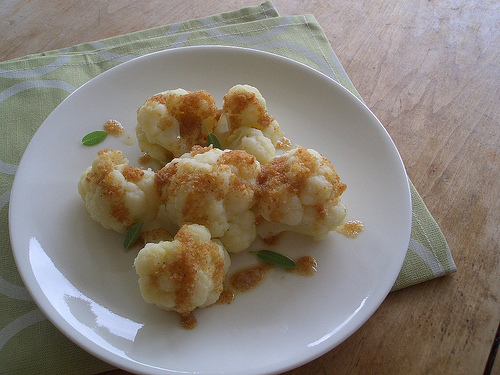cauliflower: (152, 144, 264, 249), (131, 216, 238, 315), (248, 148, 348, 242), (80, 150, 158, 240), (138, 89, 223, 155), (222, 75, 289, 148)
